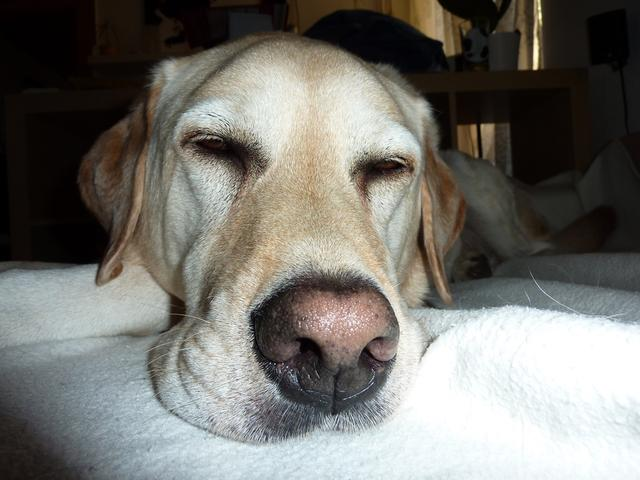dog: (62, 45, 551, 443)
